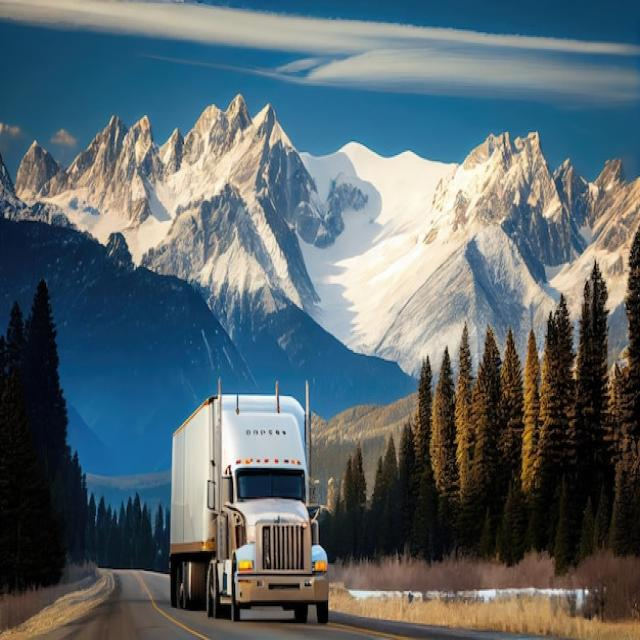Truck: (167, 370, 336, 630)
